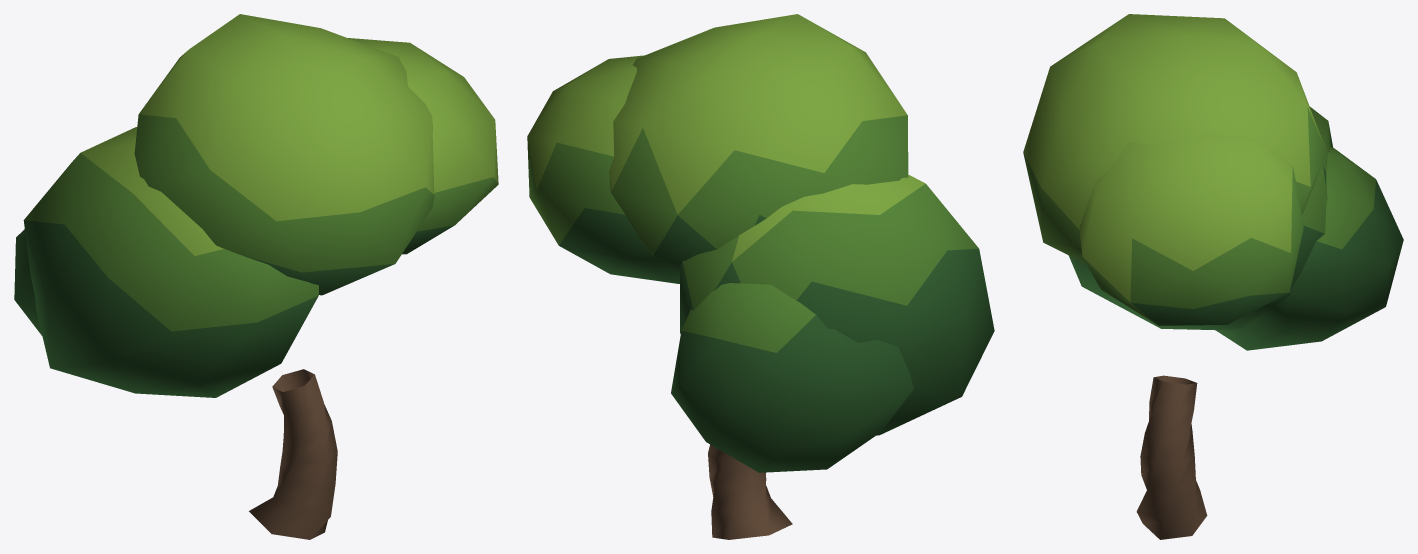
Rendered from OakB_FAR.glb.
The picture shows the model from 3 angles, left to right: view 1: azimuth 30°, elevation 25°; view 2: azimuth 150°, elevation 25°; view 3: azimuth 270°, elevation 25°; orthographic projection. The views are drawn at different scales.
Visible parts, largest first — view 1: OakB_FAR.leafLight, OakB_FAR.leafMid, OakB_FAR.leafDark, OakB_FAR.bark; view 2: OakB_FAR.leafDark, OakB_FAR.leafMid, OakB_FAR.leafLight, OakB_FAR.bark; view 3: OakB_FAR.leafLight, OakB_FAR.leafMid, OakB_FAR.leafDark, OakB_FAR.bark.
Boxes of the visible parts, x1=… form: OakB_FAR.leafLight: x1=80, y1=14, x2=498, y2=255; OakB_FAR.leafMid: x1=24, y1=114, x2=498, y2=331; OakB_FAR.leafDark: x1=14, y1=220, x2=453, y2=397; OakB_FAR.bark: x1=249, y1=369, x2=337, y2=539; OakB_FAR.leafDark: x1=559, y1=208, x2=994, y2=472; OakB_FAR.leafMid: x1=527, y1=115, x2=978, y2=352; OakB_FAR.leafLight: x1=527, y1=14, x2=925, y2=261; OakB_FAR.bark: x1=708, y1=444, x2=792, y2=539; OakB_FAR.leafLight: x1=1023, y1=14, x2=1325, y2=302; OakB_FAR.leafMid: x1=1023, y1=106, x2=1375, y2=324; OakB_FAR.leafDark: x1=1068, y1=123, x2=1403, y2=350; OakB_FAR.bark: x1=1136, y1=375, x2=1207, y2=539.
Bounding box in the file's own units: 18.82 × 21.66 × 15.31.
